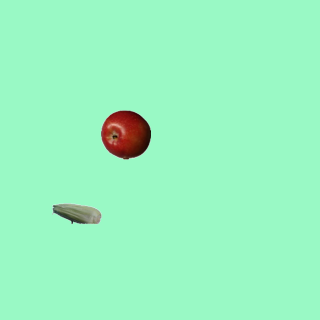Apple Braeburn: (100, 109, 150, 159)
Corn Husk: (51, 188, 101, 238)
